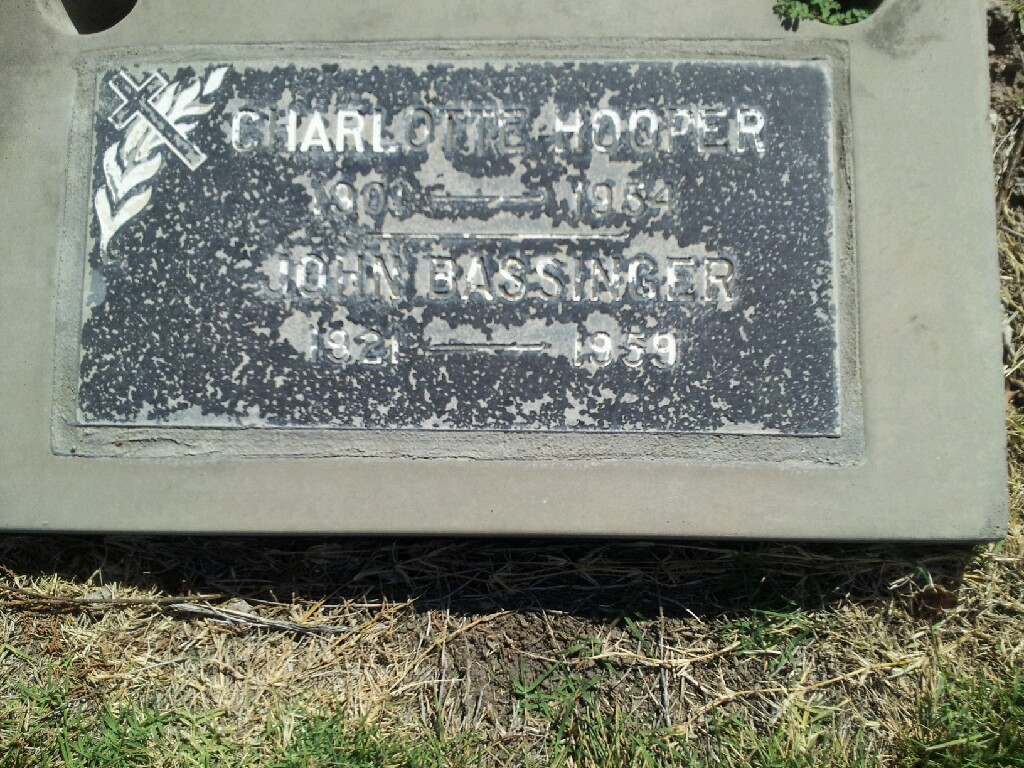flat: (66, 55, 845, 439)
